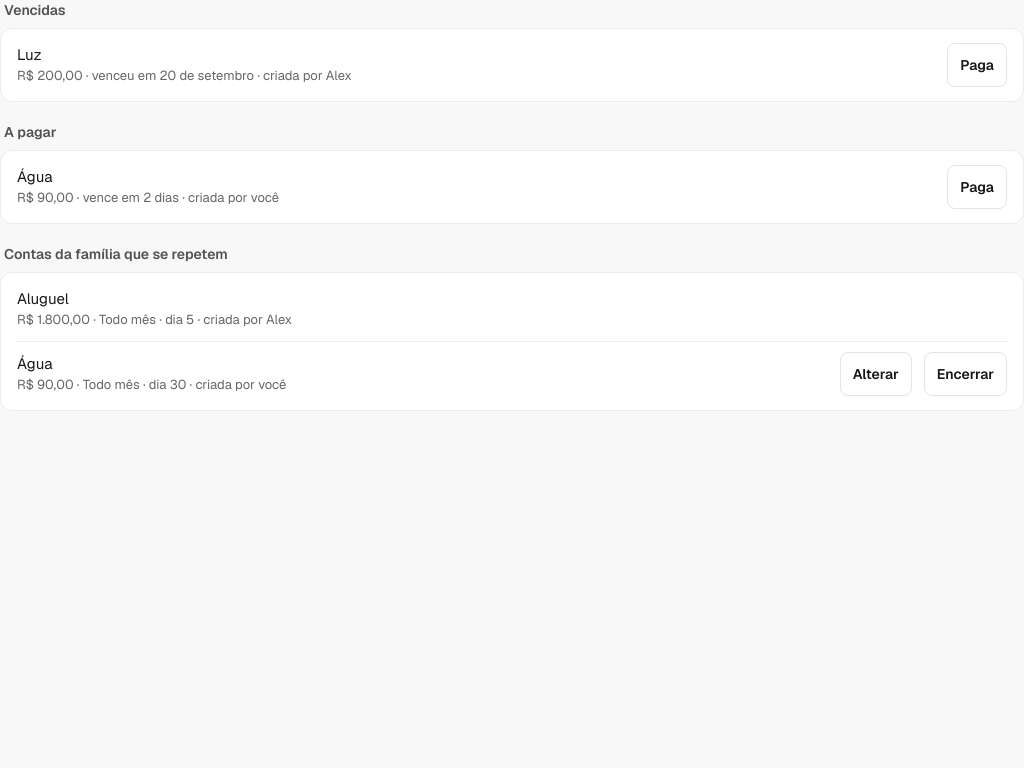
Test: vencidas e a pagar, cada uma com "Marcar {conta} como paga"
Expected: the heading "Vencidas" is shown, [4,1,66,19]
Expected: the heading "A pagar" is shown, [4,123,56,141]
Step 1. Click the button with aria-label "Marcar Luz como paga" → coordinates (977, 65), box [947,43,1007,87]
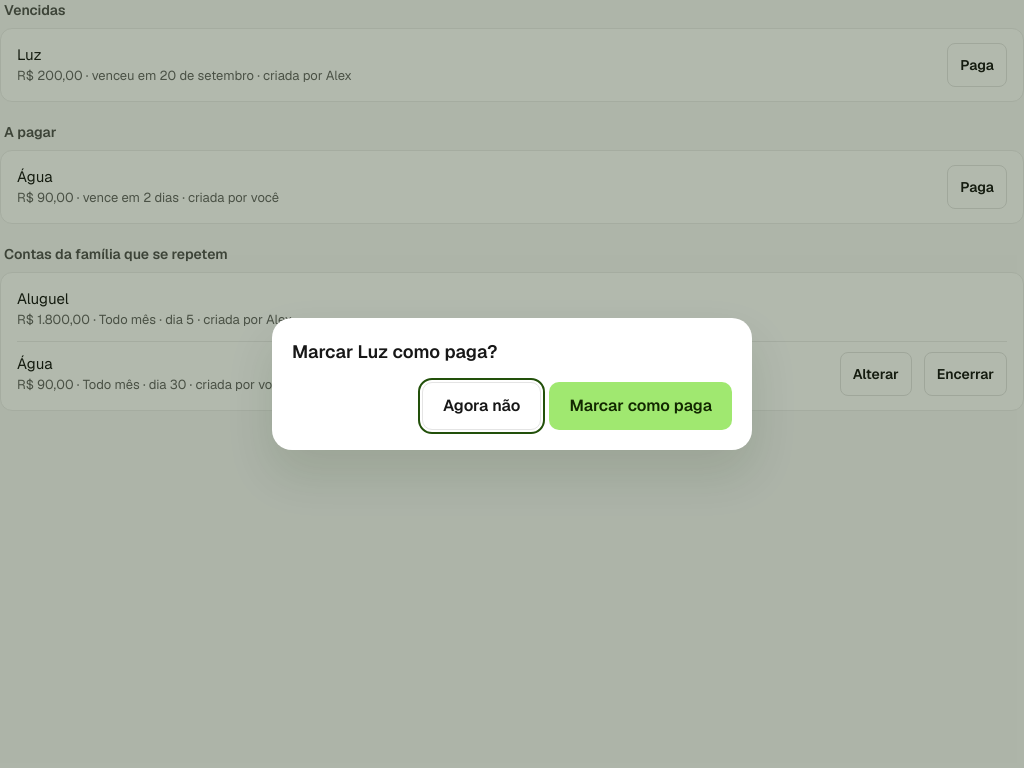
Expected: the button with aria-label "Marcar Água como paga" is shown, [947,165,1007,209]
Result: the button "Marcar como paga" is shown at [549,382,732,430]
Result: the button "Agora não" is shown at [422,382,541,430]
